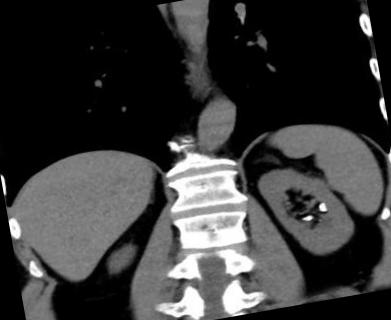Tas_Var: (299, 214, 314, 222), (318, 202, 328, 214), (318, 218, 324, 222)
